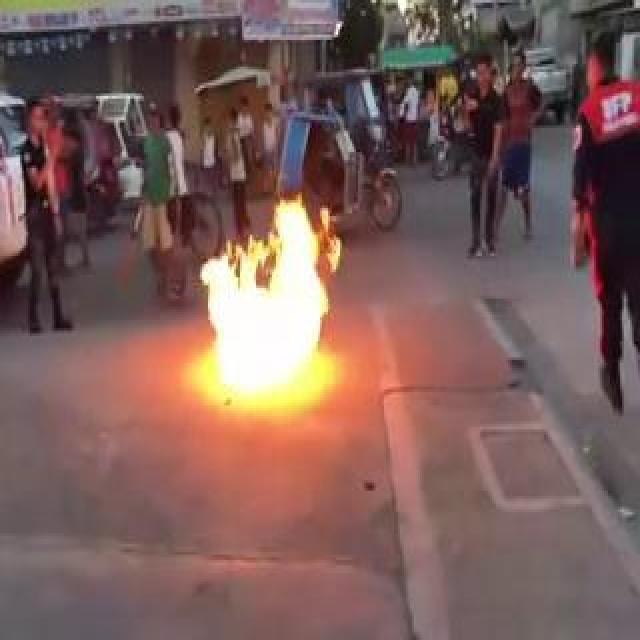Fire: (199, 196, 343, 396)
